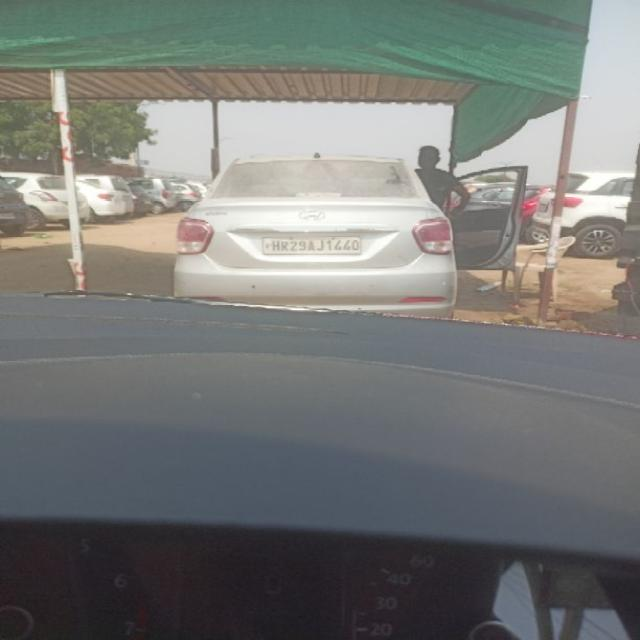license_plate: (259, 234, 362, 255)
